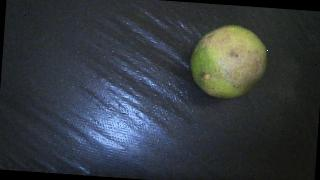DESECHO: (188, 22, 269, 100)
